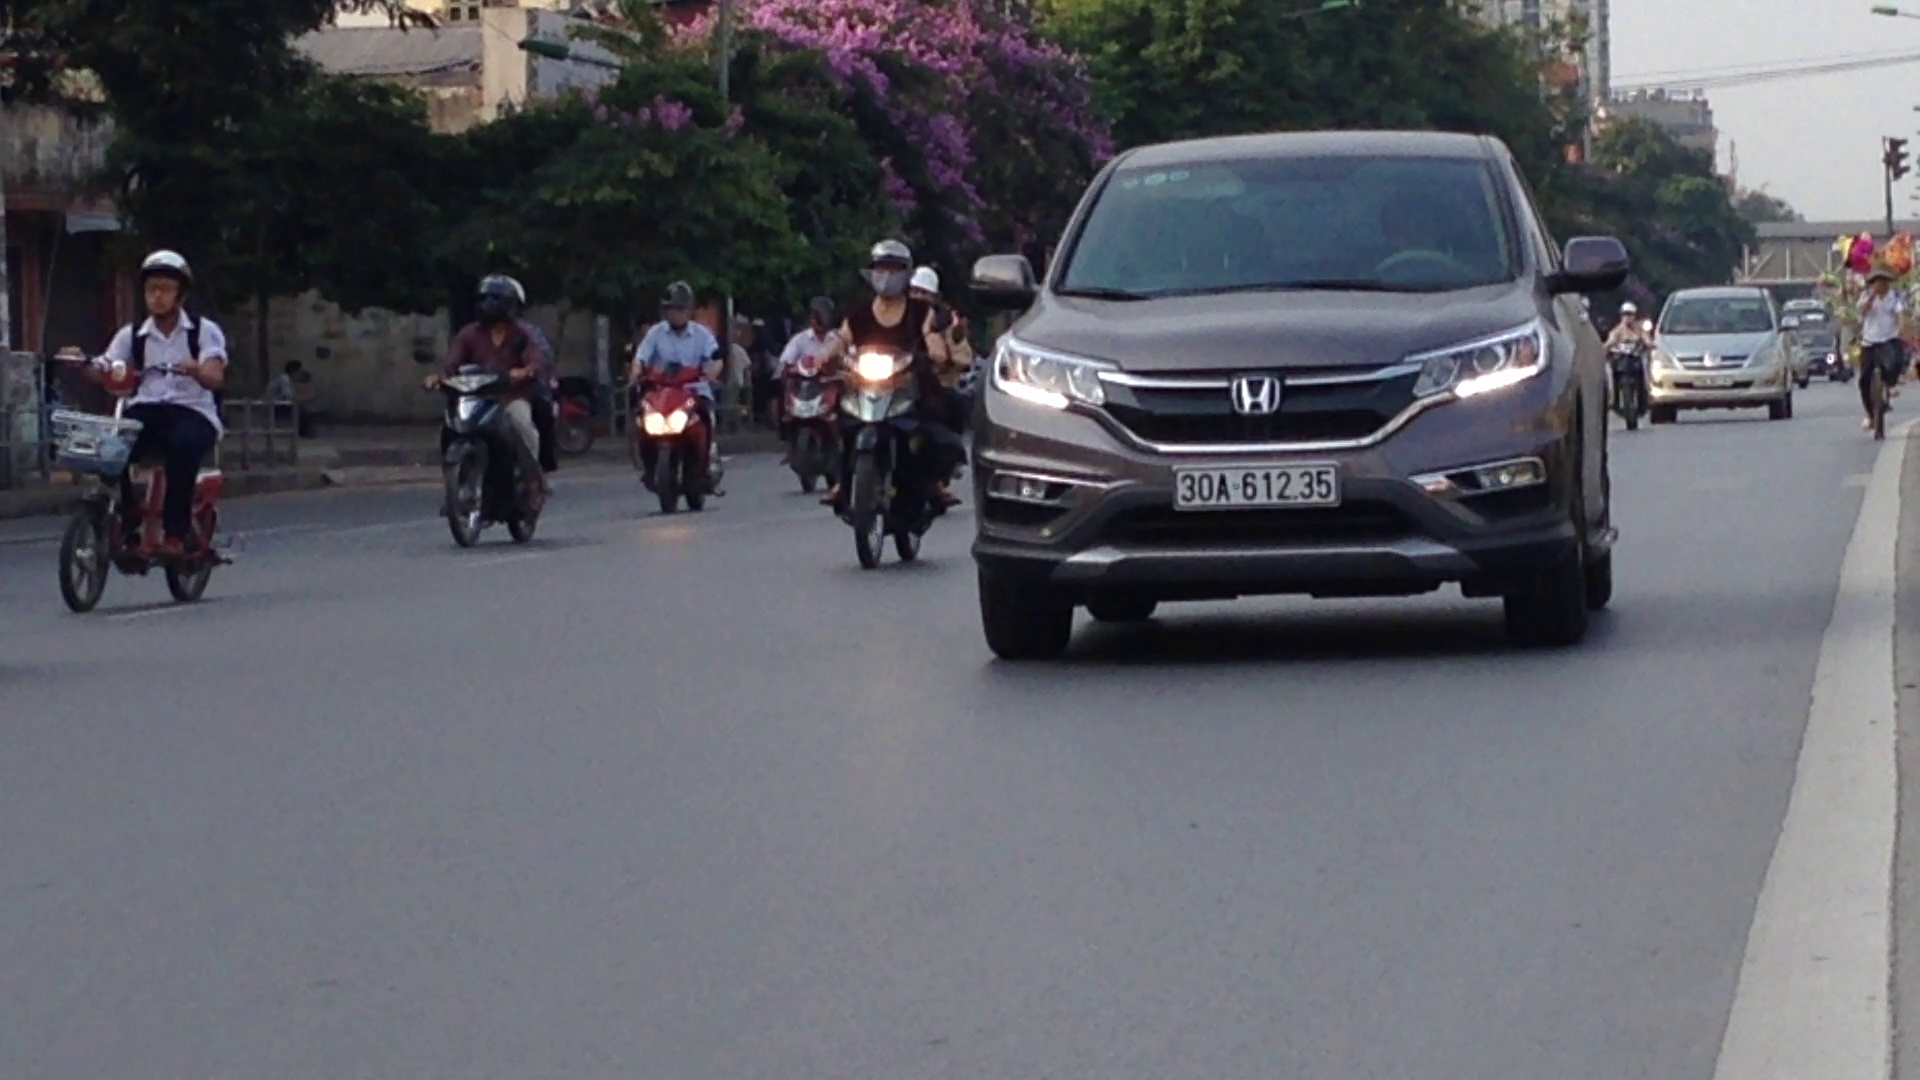vehicle-plate: (1167, 456, 1345, 511)
